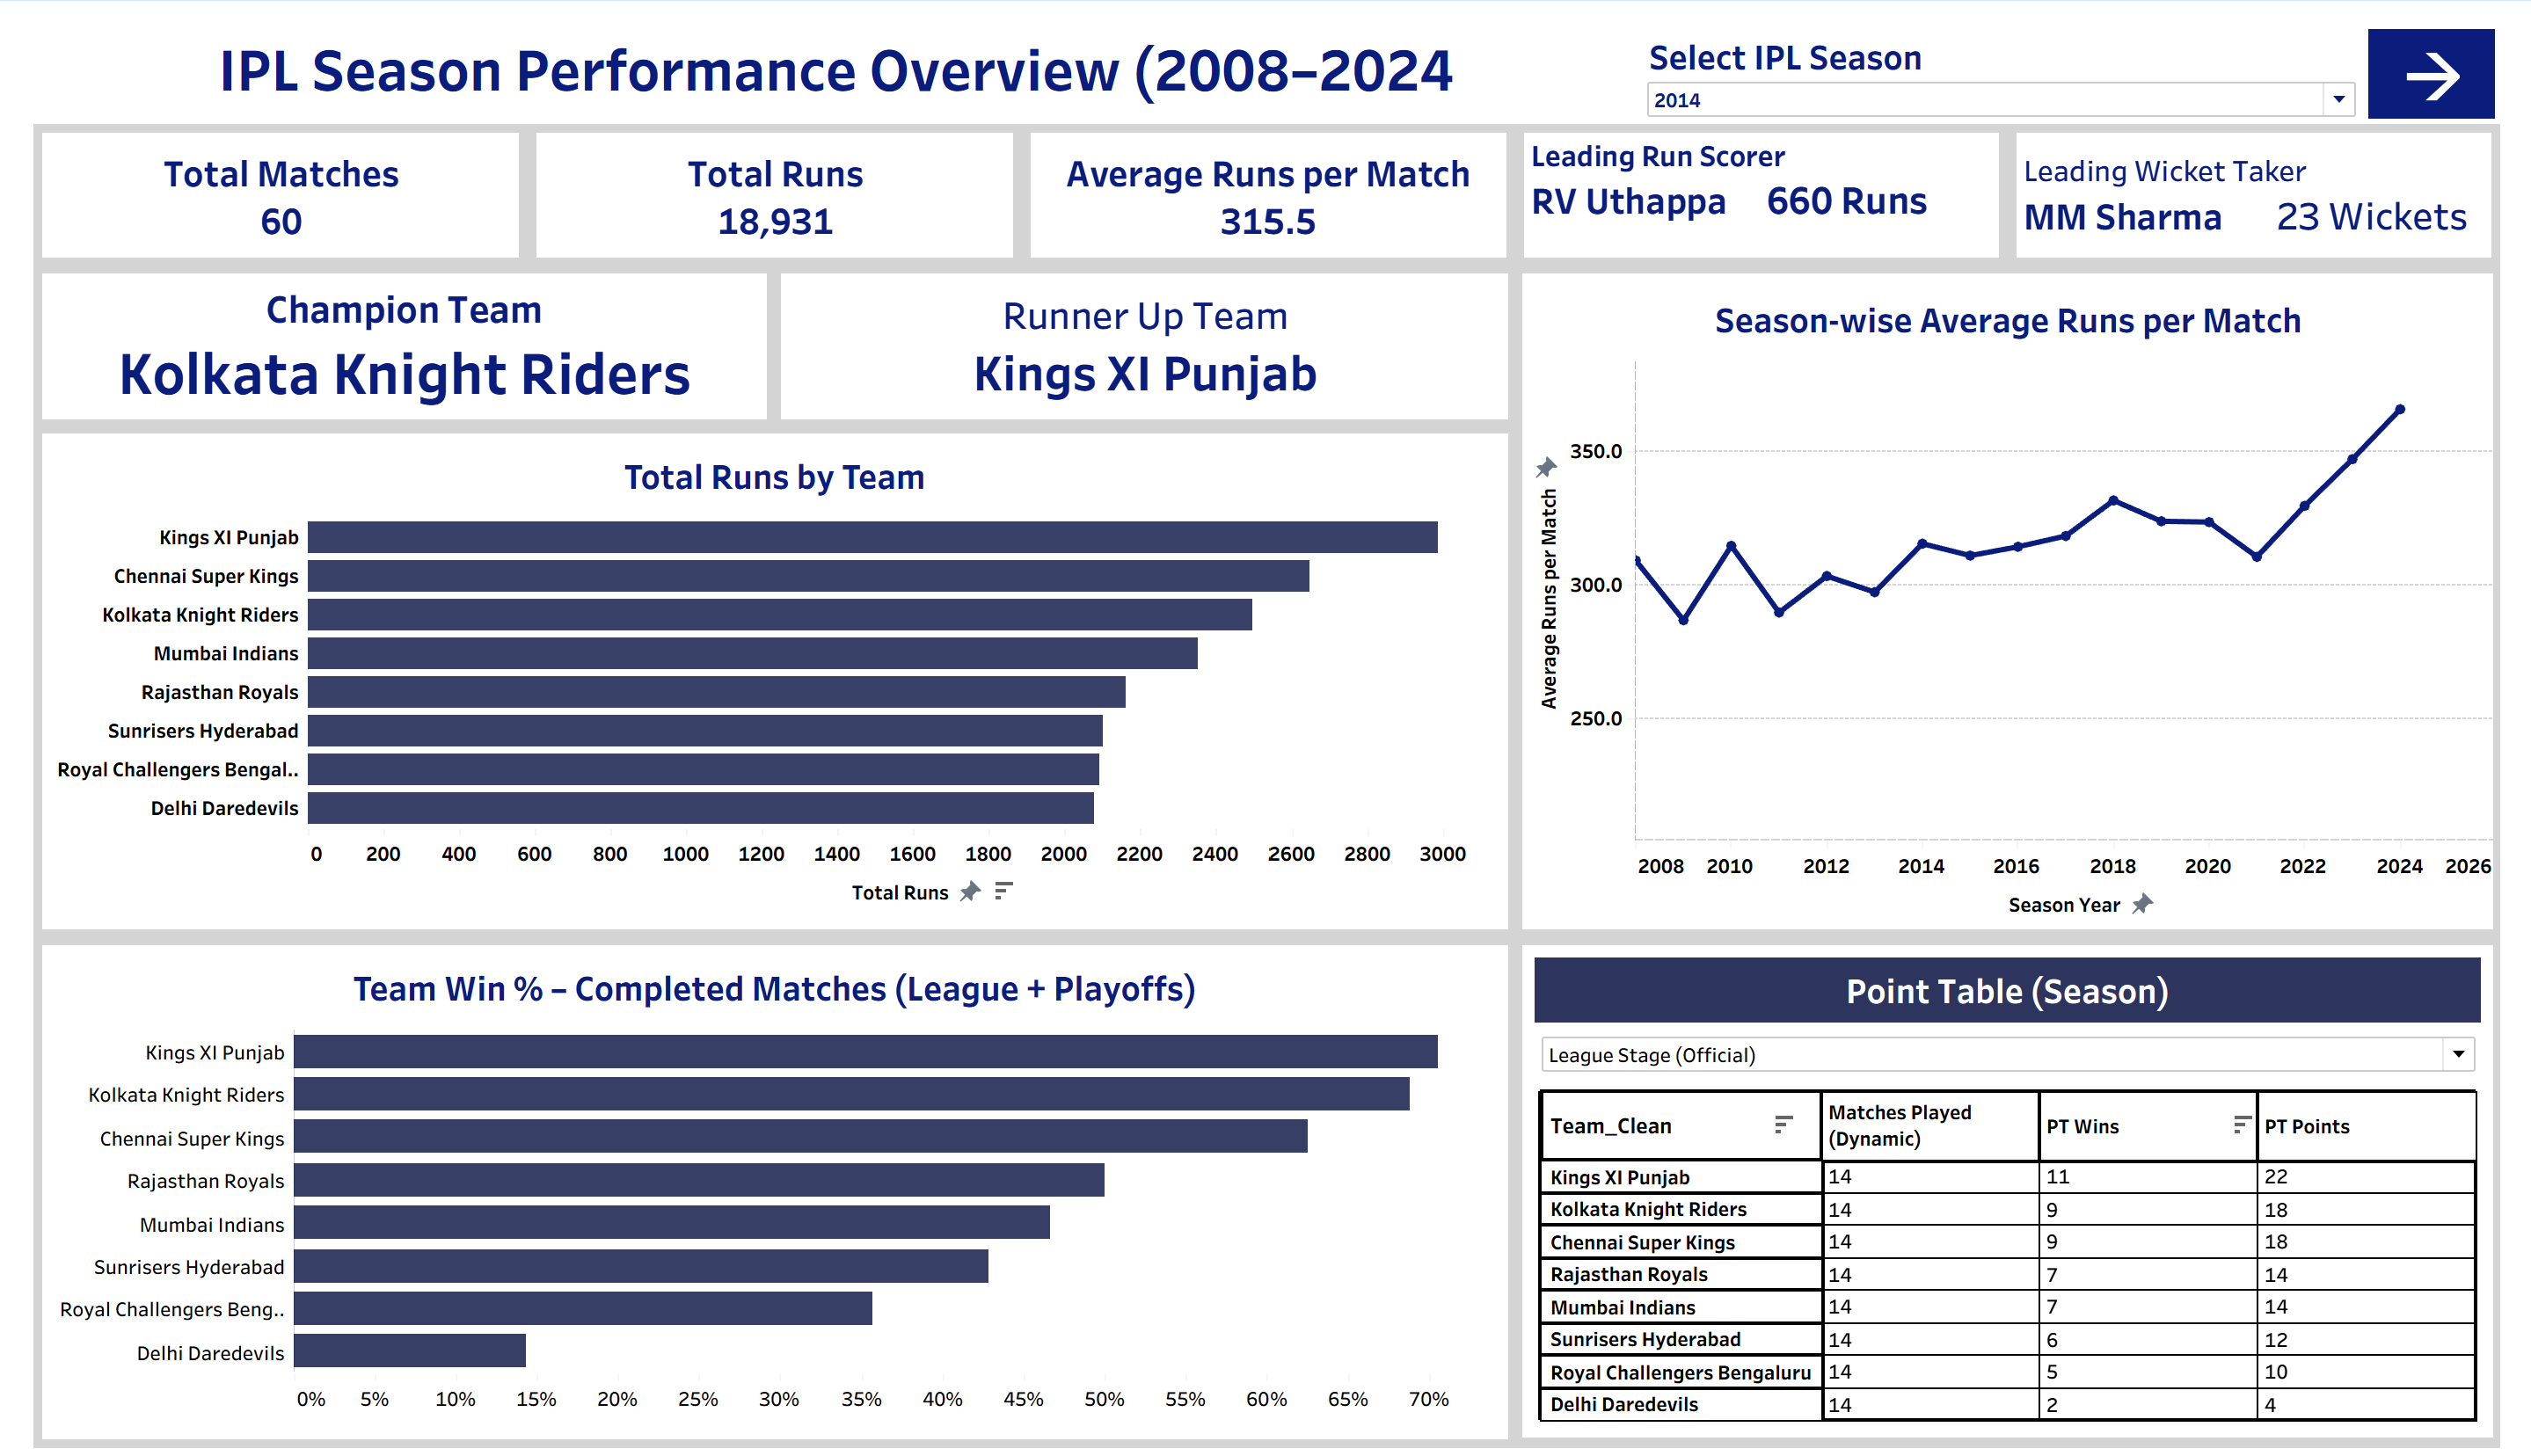

Layout of this report page (visuals, bound fields, positions):
{"tool":"tableau","page":{"name":"IPL Season Overview","canvas":[1406,820],"ordinal":0},"visuals":[{"type":"text","box":[2,2,912,62.7]},{"type":"filter","title":"Champion Team","param":"[federated.1q85gna0kmrjjv177o0d91upmfun].[none:Calculation_1277333461417566208:o","box":[914,2,411,62.7]},{"type":"dashboard-object","box":[1325,2,79,62.7]},{"type":"worksheet","title":"Total Matches","mark":"Automatic","box":[2,65,281,81]},{"type":"worksheet","title":"Total Runs","mark":"Automatic","box":[283,65,281,81]},{"type":"worksheet","title":"Average Runs per Match","mark":"Automatic","box":[564,65,280,81]},{"type":"worksheet","title":"Leading Run Scorer","mark":"Automatic","box":[844,65,280,81]},{"type":"worksheet","title":"Leading Wicket Taker","mark":"Automatic","box":[1124,65,280,81]},{"type":"worksheet","title":"Season Runs Trend","mark":"Line","rows":["Calculation_1277333461575372809"],"cols":["Calculation_1277333461417566208"],"box":[843.5,145.9,560.5,380.4]},{"type":"worksheet","title":"Champion Team","mark":"Automatic","box":[2,146,421,91]},{"type":"worksheet","title":"Runner Up Team","mark":"Automatic","box":[423,146,421,91]},{"type":"worksheet","title":"Total Runs by Team","mark":"Bar","rows":["Calculation_1381555614232583"],"cols":["Calculation_1277333461517848577"],"box":[2,237.2,841.5,290.4]},{"type":"worksheet","title":"Team Win Percentage","mark":"Bar","rows":["Calculation_1381555582603264"],"cols":["Calculation_0244109769113603"],"box":[2,527.6,841.5,290.4]},{"type":"text","box":[853,537,542,41]},{"type":"parameter","param":"[Parameters].[Umpire2 Parameter]","box":[853,578,542,32]},{"type":"worksheet","title":"Points Table (Season)","mark":"Automatic","rows":["Calculation_1381555582603264"],"box":[853,610,542,197]}]}

Visuals, with their boxes in screenshot pixels (x1, y1, x2, y2), scaled from the page's 1406x820 canvas onto the 2531x1456 screenshot:
text: locate(4, 4, 1645, 115)
"Champion Team" filter: locate(1645, 4, 2385, 115)
dashboard-object: locate(2385, 4, 2527, 115)
"Total Matches" worksheet: locate(4, 115, 509, 259)
"Total Runs" worksheet: locate(509, 115, 1015, 259)
"Average Runs per Match" worksheet: locate(1015, 115, 1520, 259)
"Leading Run Scorer" worksheet: locate(1520, 115, 2024, 259)
"Leading Wicket Taker" worksheet: locate(2024, 115, 2527, 259)
"Season Runs Trend" worksheet (Line marks): locate(1519, 259, 2527, 935)
"Champion Team" worksheet: locate(4, 259, 762, 421)
"Runner Up Team" worksheet: locate(762, 259, 1520, 421)
"Total Runs by Team" worksheet (Bar marks): locate(4, 421, 1519, 936)
"Team Win Percentage" worksheet (Bar marks): locate(4, 936, 1519, 1452)
text: locate(1535, 953, 2511, 1026)
parameter: locate(1535, 1026, 2511, 1083)
"Points Table (Season)" worksheet: locate(1535, 1083, 2511, 1433)
